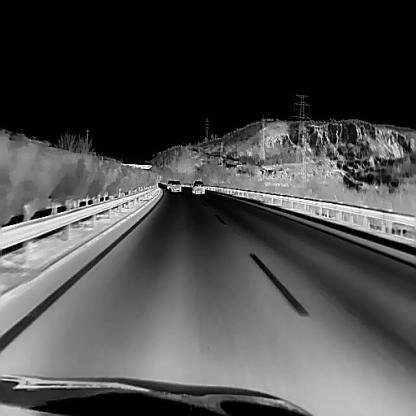car: (192, 180, 204, 194), (170, 179, 181, 191), (166, 179, 173, 188)
